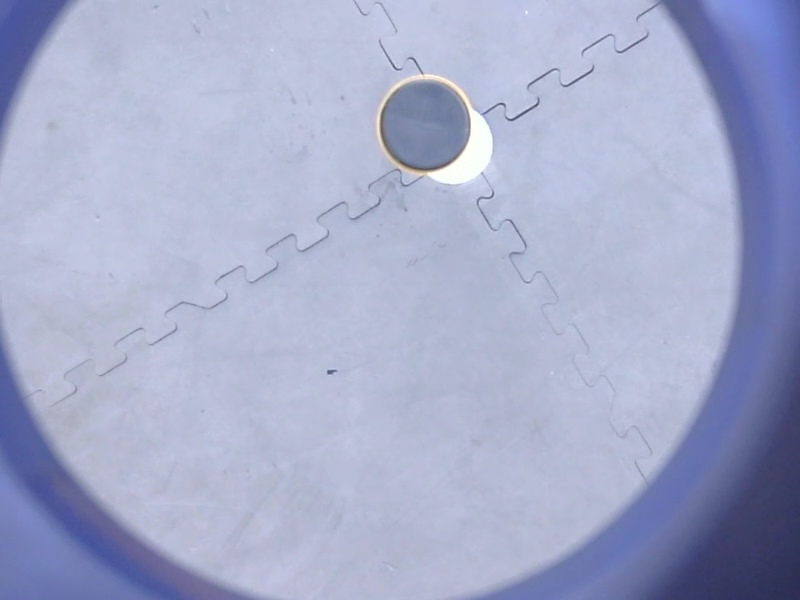tip: (366, 67, 482, 184)
